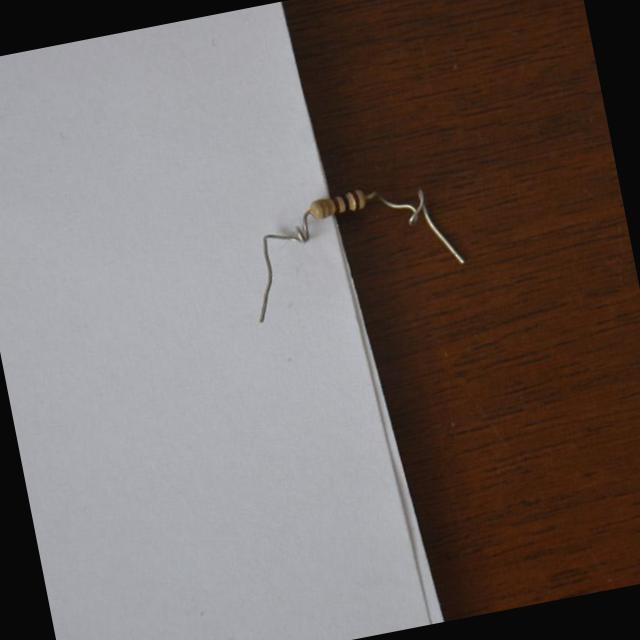Resistor: (307, 190, 374, 218)
black: (343, 195, 351, 215)
brown: (350, 191, 362, 210), (333, 197, 341, 216)
gold: (320, 199, 327, 219)
